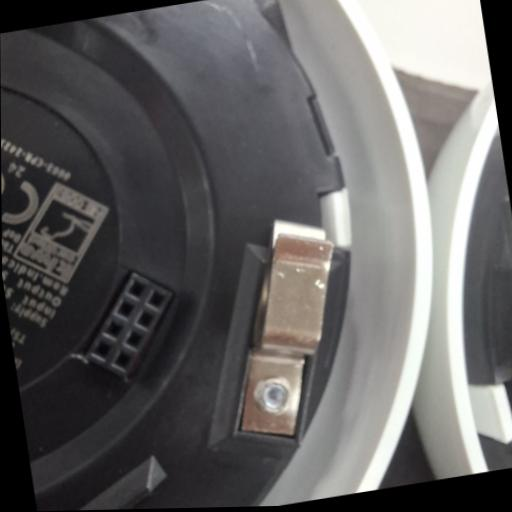yayli: (208, 213, 363, 449)
